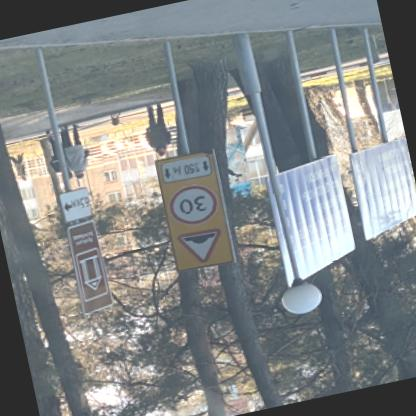speedlimit: (167, 181, 223, 230)
